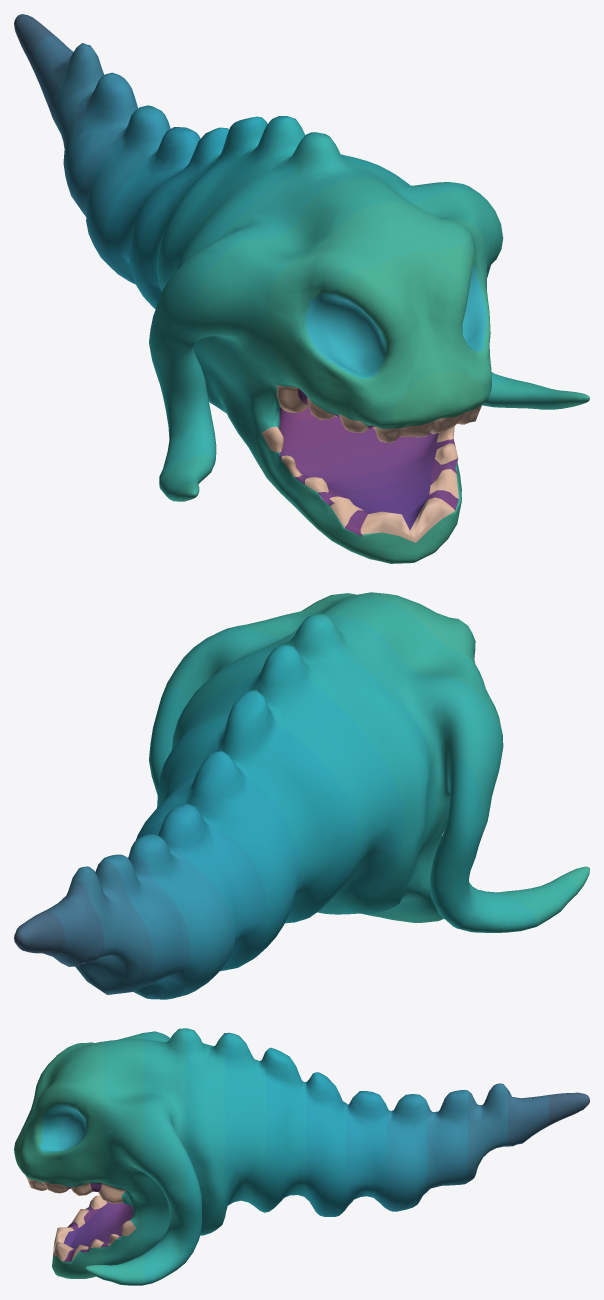
File: SK_Serpent.fbx
3 views of the same model, one above another, from view 1: azimuth 30°, elevation 25°; view 2: azimuth 150°, elevation 25°; view 3: azimuth 270°, elevation 25° (orthographic). The views are drawn at different scales.
Visible parts, largest first — view 1: Geo; view 2: Geo; view 3: Geo.
Boxes of the visible parts, box(x1,y1,x2,y2) form: Geo: box(14, 14, 589, 563); Geo: box(14, 592, 589, 999); Geo: box(14, 1028, 589, 1285).
Bounding box in the file's own units: 549 × 466 × 1005.
Materials: 1 (1 with a texture image).
